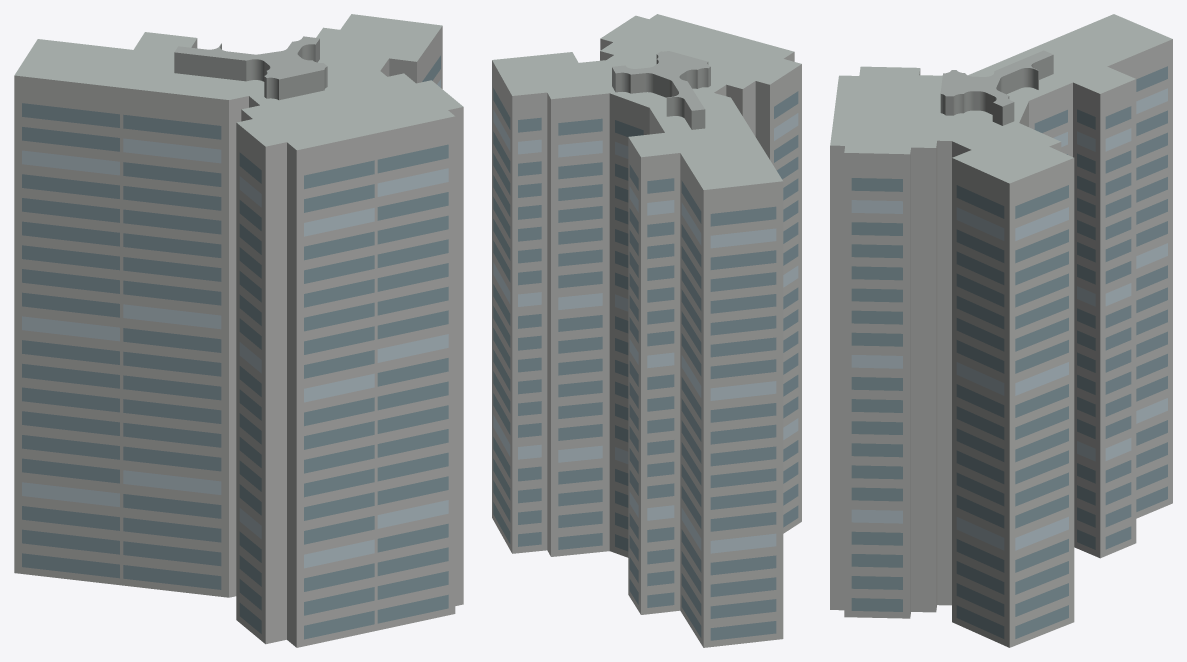
File: fallback-geumho-park-hills-106.glb
3 views of the same model, side by side, from view 1: azimuth 30°, elevation 25°; view 2: azimuth 150°, elevation 25°; view 3: azimuth 270°, elevation 25° (orthographic). The views are drawn at different scales.
Parts seen in each view (by area): view 1: fallback-geumho-park-hills-106; view 2: fallback-geumho-park-hills-106; view 3: fallback-geumho-park-hills-106.
Boxes of the visible parts, bbox=[...] form: fallback-geumho-park-hills-106: bbox=[14, 14, 463, 647]; fallback-geumho-park-hills-106: bbox=[492, 14, 801, 647]; fallback-geumho-park-hills-106: bbox=[830, 14, 1172, 647].
Size of the model in its own units: 45.12 by 60 by 38.53.
